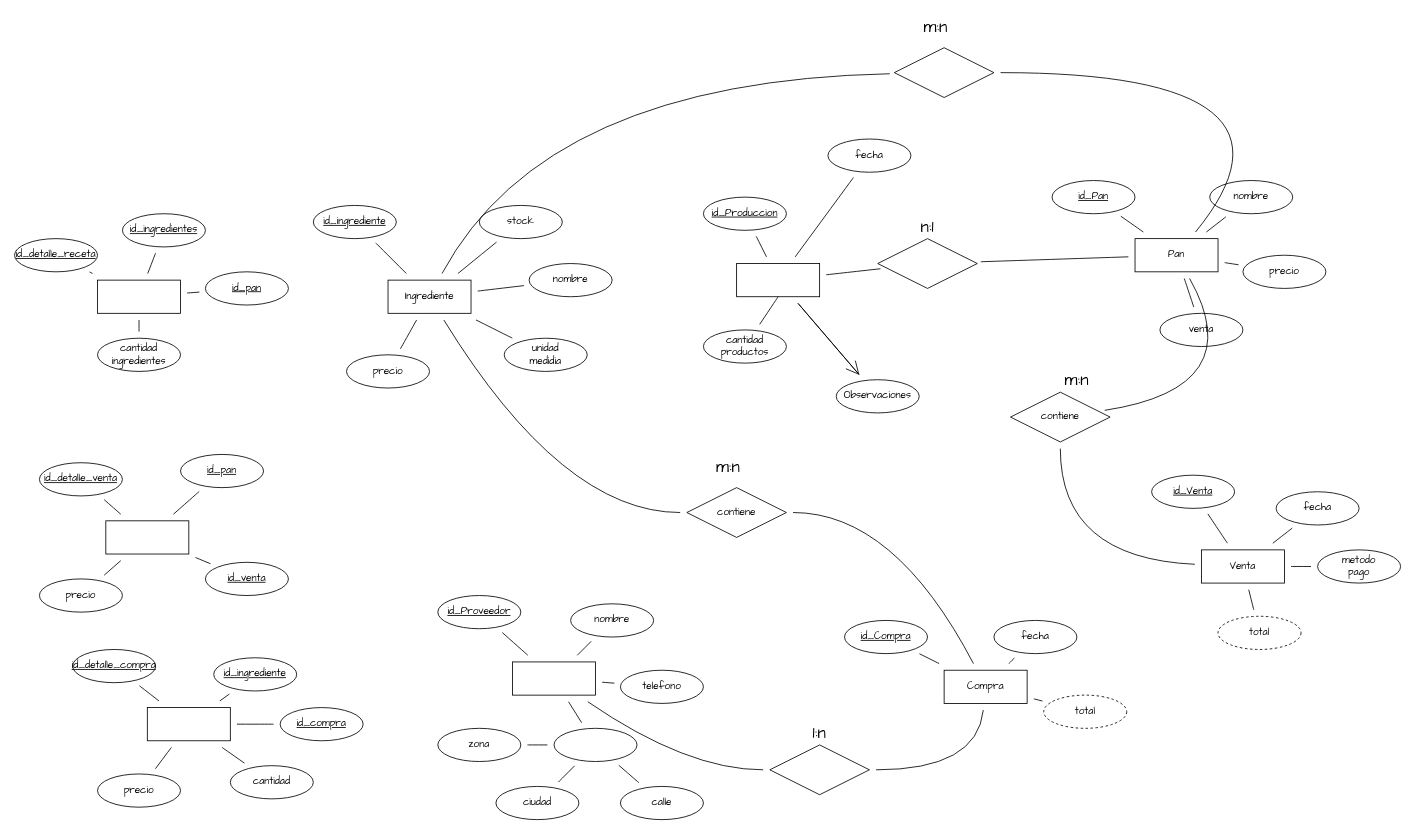
Image size: 1415x834. Some labels were removed from this diagram. The centre of each missing label's shape, as x and y in pixels:
"detalle_compra" goes at (x=188, y=724).
"detalle_receta" goes at (x=139, y=296).
"detalle_venta" goes at (x=147, y=537).
"direccion" goes at (x=595, y=744).
"participa" goes at (x=819, y=769).
"Produccion" goes at (x=778, y=280).
"Proveedor" goes at (x=554, y=678).
"registra" goes at (x=927, y=263).
"utiliziza" goes at (x=943, y=72).
